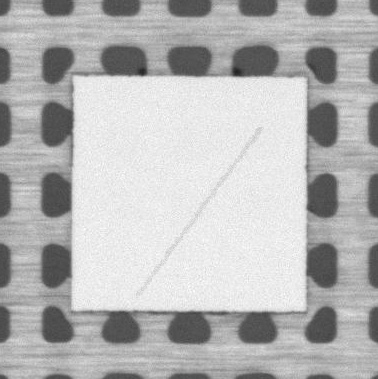DIE_CRACK: (138, 127, 261, 296)
